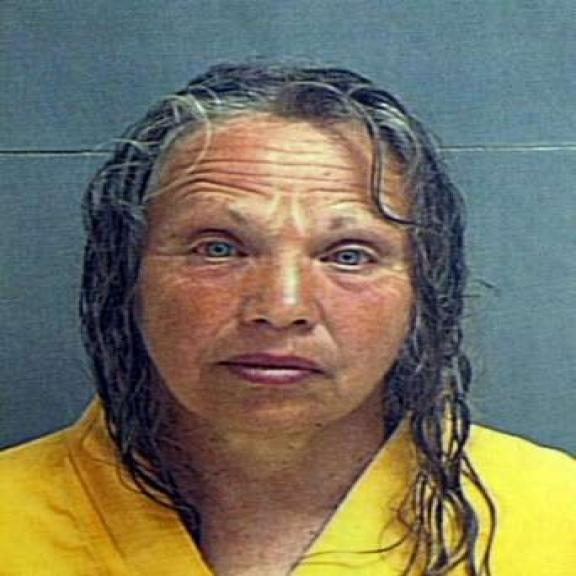face: (148, 119, 417, 437)
